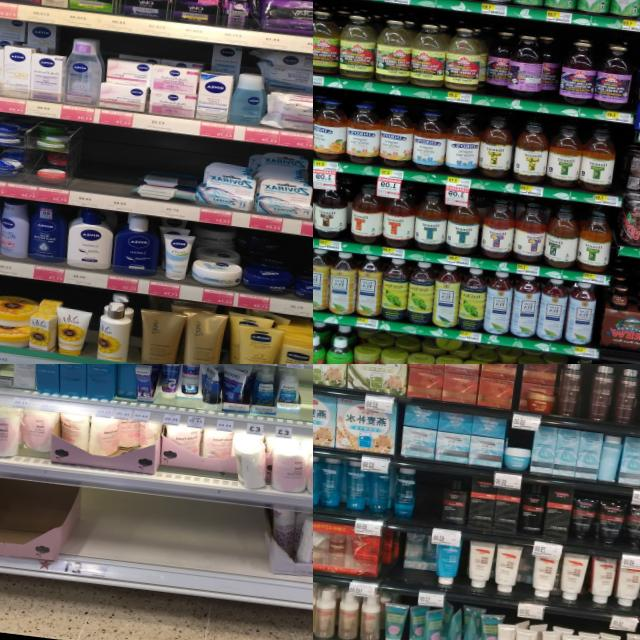100- O.O.S: (73, 488, 259, 596), (69, 124, 110, 208), (104, 129, 142, 212), (413, 471, 445, 535), (298, 371, 313, 440)
